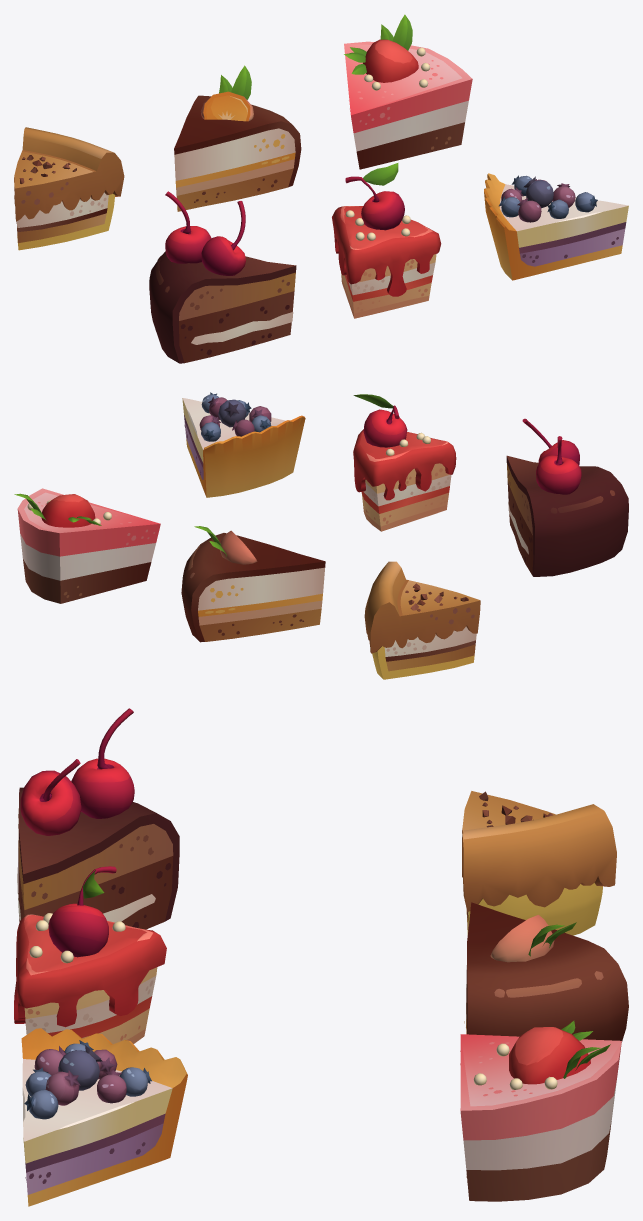
File: Cakes_Pies_002.fbx
3 renders of one model, top to bottom at view 1: azimuth 30°, elevation 25°; view 2: azimuth 150°, elevation 25°; view 3: azimuth 270°, elevation 25°, orthographic. The views are drawn at different scales.
Visible parts, largest first — view 1: Cake_ChocolateCherry, Cake_StrawberryCheesecake, Cake_ChocolatePeach, Cake_Blueberry_02, Cake_Cherry_02, Cake_CaramelNougat; view 2: Cake_ChocolateCherry, Cake_ChocolatePeach, Cake_StrawberryCheesecake, Cake_CaramelNougat, Cake_Cherry_02, Cake_Blueberry_02; view 3: Cake_StrawberryCheesecake, Cake_Blueberry_02, Cake_ChocolateCherry, Cake_Cherry_02, Cake_ChocolatePeach, Cake_CaramelNougat.
Part boxes in pixels (x1,y1,x2,y2): Cake_ChocolateCherry: [149, 191, 296, 363]; Cake_StrawberryCheesecake: [344, 14, 472, 169]; Cake_ChocolatePeach: [174, 65, 301, 211]; Cake_Blueberry_02: [484, 173, 628, 280]; Cake_Cherry_02: [332, 163, 441, 318]; Cake_CaramelNougat: [14, 127, 124, 250]; Cake_ChocolateCherry: [506, 418, 628, 576]; Cake_ChocolatePeach: [181, 526, 325, 642]; Cake_StrawberryCheesecake: [14, 488, 160, 603]; Cake_CaramelNougat: [364, 561, 480, 679]; Cake_Cherry_02: [353, 394, 456, 531]; Cake_Blueberry_02: [182, 392, 305, 497]; Cake_StrawberryCheesecake: [460, 1020, 621, 1201]; Cake_Blueberry_02: [21, 1028, 187, 1206]; Cake_ChocolateCherry: [17, 708, 179, 929]; Cake_Cherry_02: [14, 866, 166, 1044]; Cake_ChocolatePeach: [464, 902, 628, 1042]; Cake_CaramelNougat: [462, 791, 616, 935].
Size of the model in its own units: 485 by 140 by 386.
Materials: 1 (1 with a texture image).
